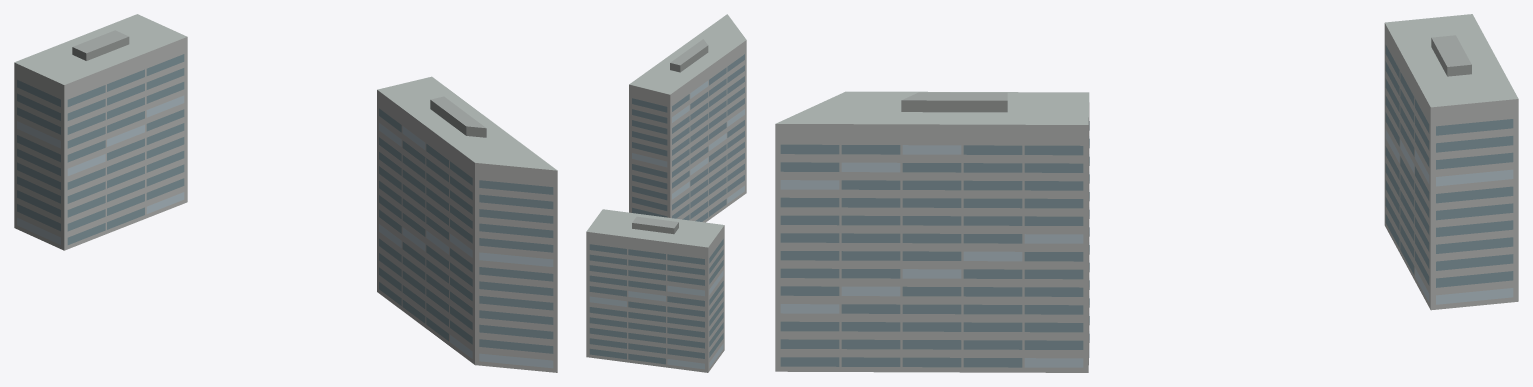
File: apt-a10027162.glb
3 views of the same model, side by side, from view 1: azimuth 30°, elevation 25°; view 2: azimuth 150°, elevation 25°; view 3: azimuth 270°, elevation 25° (orthographic). The views are drawn at different scales.
Visible parts, largest first — view 1: apt-a10027162; view 2: apt-a10027162; view 3: apt-a10027162.
Part boxes in pixels (<box>): apt-a10027162: <box>14,14,557,372</box>; apt-a10027162: <box>586,14,746,372</box>; apt-a10027162: <box>775,14,1518,372</box>.
Bounding box in the file's own units: 56.79 × 44 × 114.
